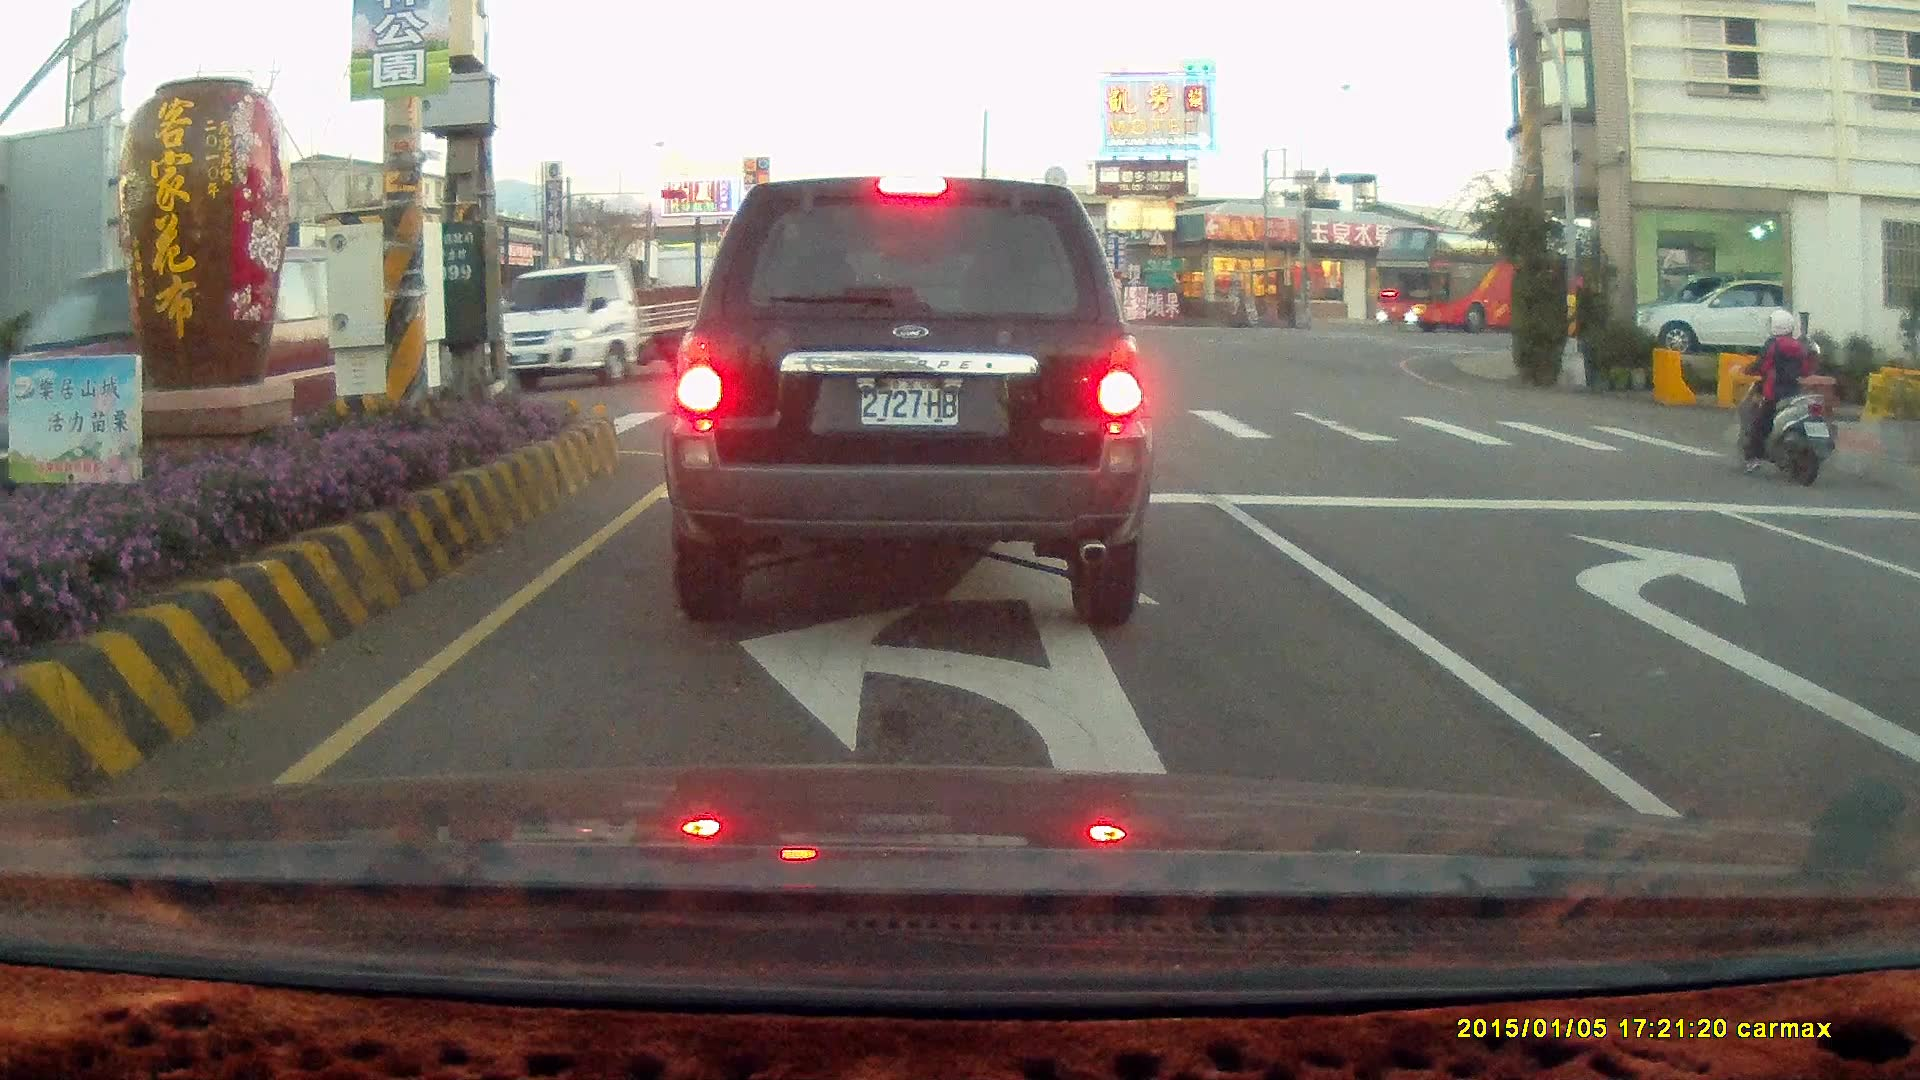rider: (1727, 308, 1832, 483)
vehicle: (660, 174, 1153, 629), (0, 246, 383, 499), (501, 261, 745, 385), (1374, 225, 1580, 334), (1621, 274, 1829, 353), (1642, 275, 1784, 356), (1896, 493, 1920, 836), (1883, 528, 1920, 690)
